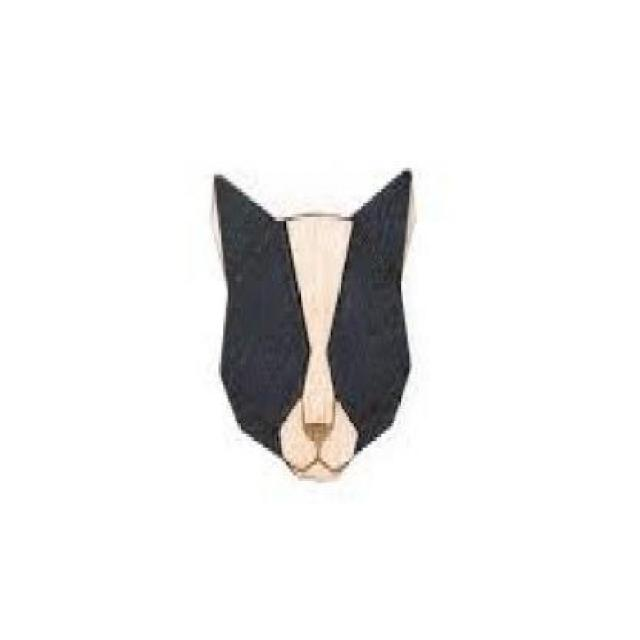animals: (205, 151, 423, 497)
